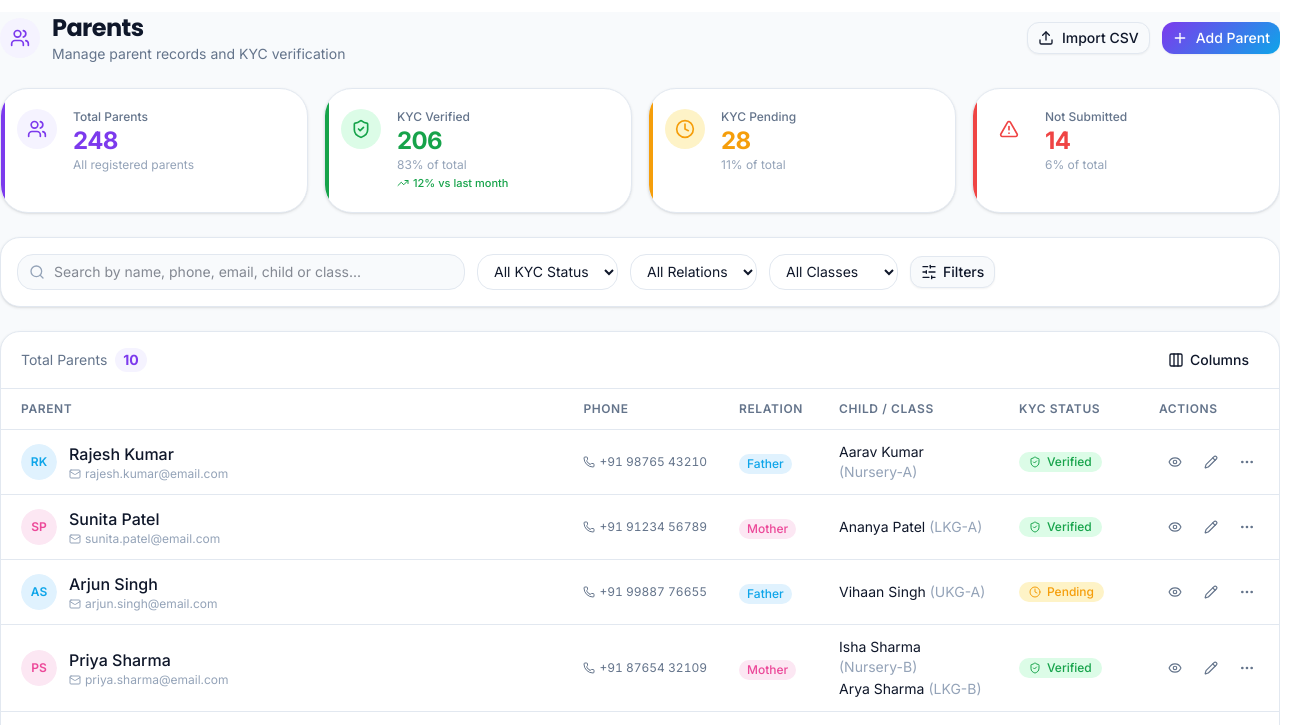
Test: ParentsListPage › Filter Bar › clears all filters when Clear is clicked
Type "Rajesh" into the field with placeholder "Search by name, phone, email, child or class..." at (241, 272), box [17,254,465,290]
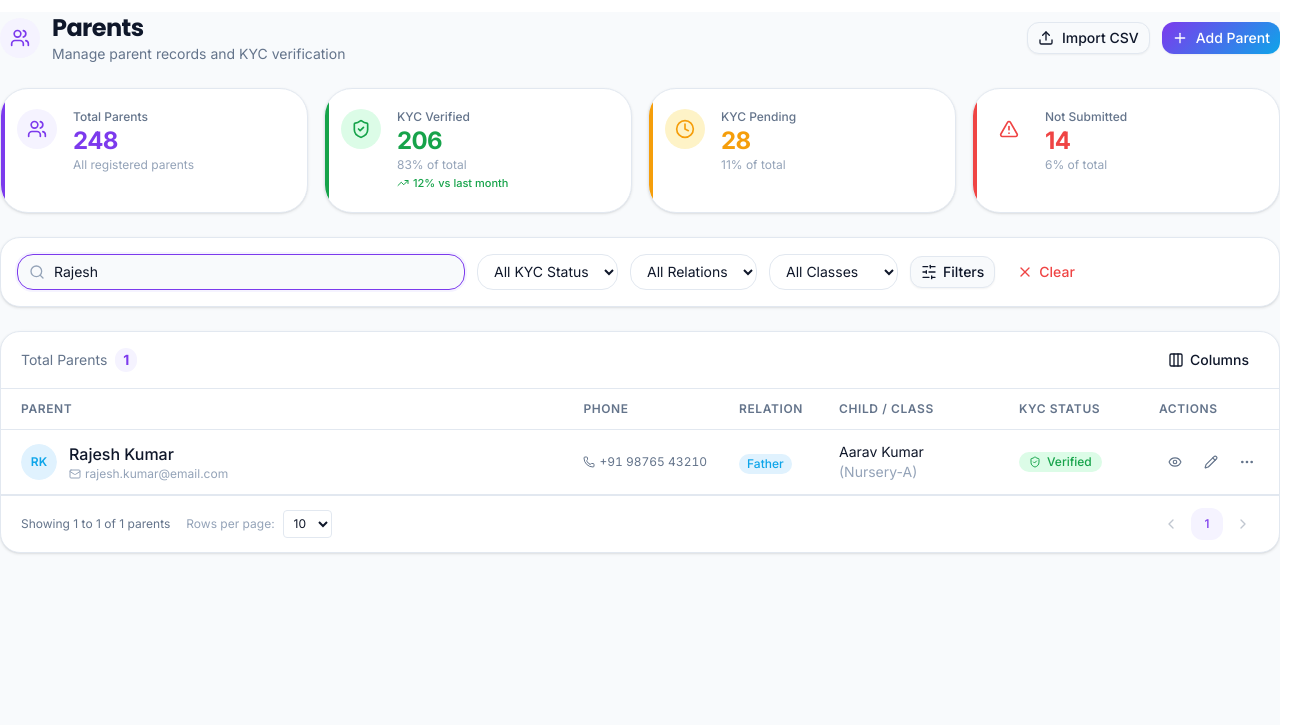
Click the button "Clear" at (1046, 272), box [1007,256,1085,288]
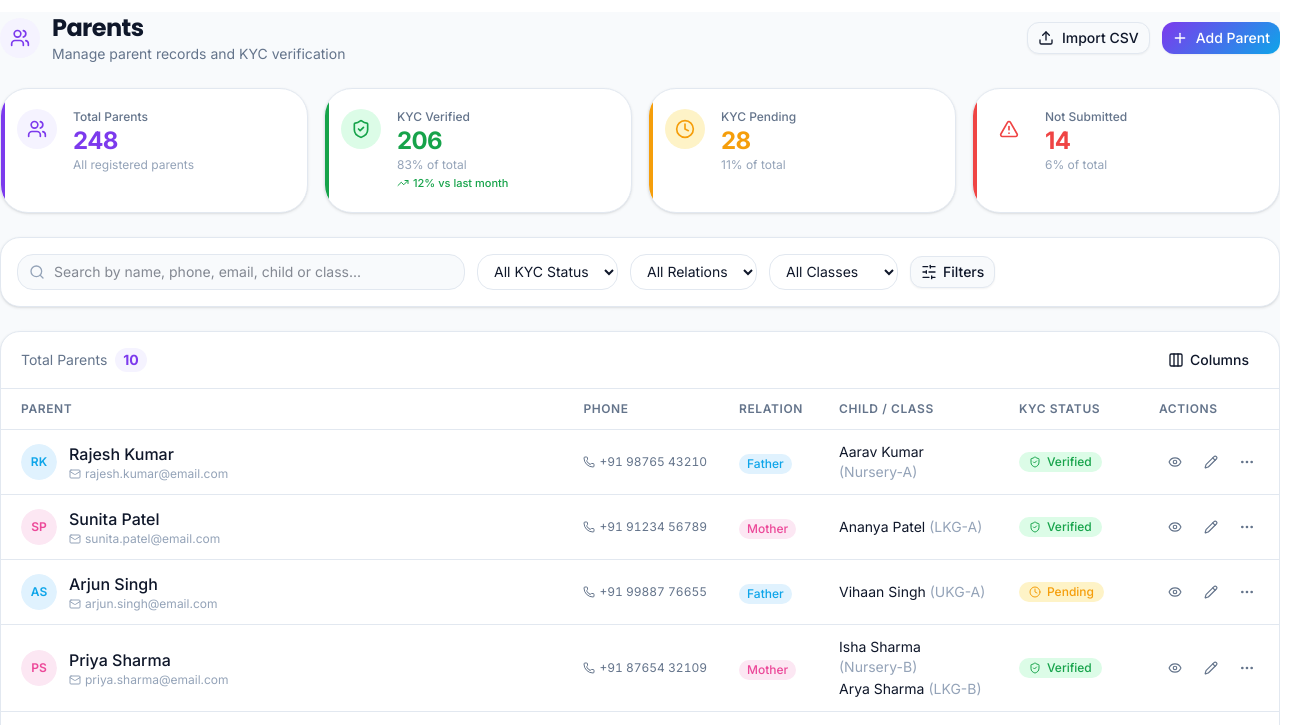
Now the button "Clear" is gone
